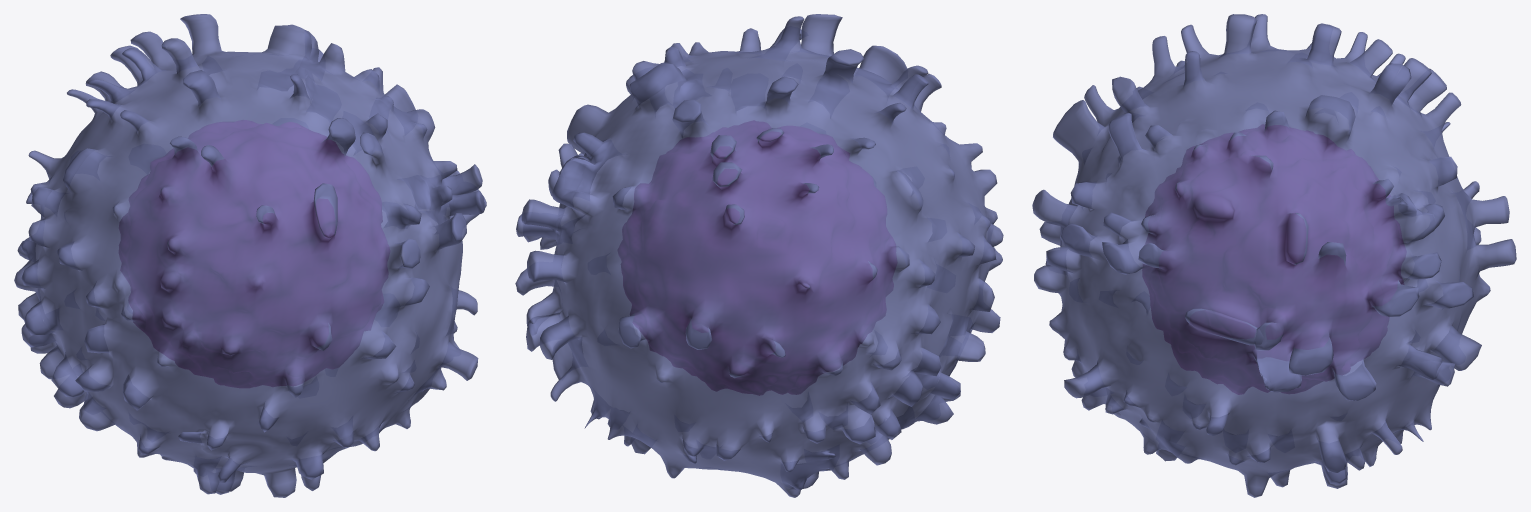
File: lynphocyte.glb
3 renders of one model, left to right at view 1: azimuth 30°, elevation 25°; view 2: azimuth 150°, elevation 25°; view 3: azimuth 270°, elevation 25°, orthographic.
Visible parts, largest first — view 1: pCube20, pCube21; view 2: pCube20, pCube21; view 3: pCube20, pCube21.
Boxes of the visible parts, <box> form: pCube20: <box>14,14,486,497</box>; pCube21: <box>119,120,389,387</box>; pCube20: <box>515,14,1003,497</box>; pCube21: <box>618,120,897,395</box>; pCube20: <box>1032,14,1516,497</box>; pCube21: <box>1142,124,1406,394</box>.
Bounding box in the file's own units: 0.0697 × 0.0684 × 0.0713.
